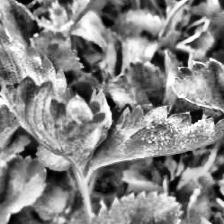Powdery Mildew Leaf: (0, 74, 112, 174), (84, 101, 224, 178), (0, 19, 76, 101)
